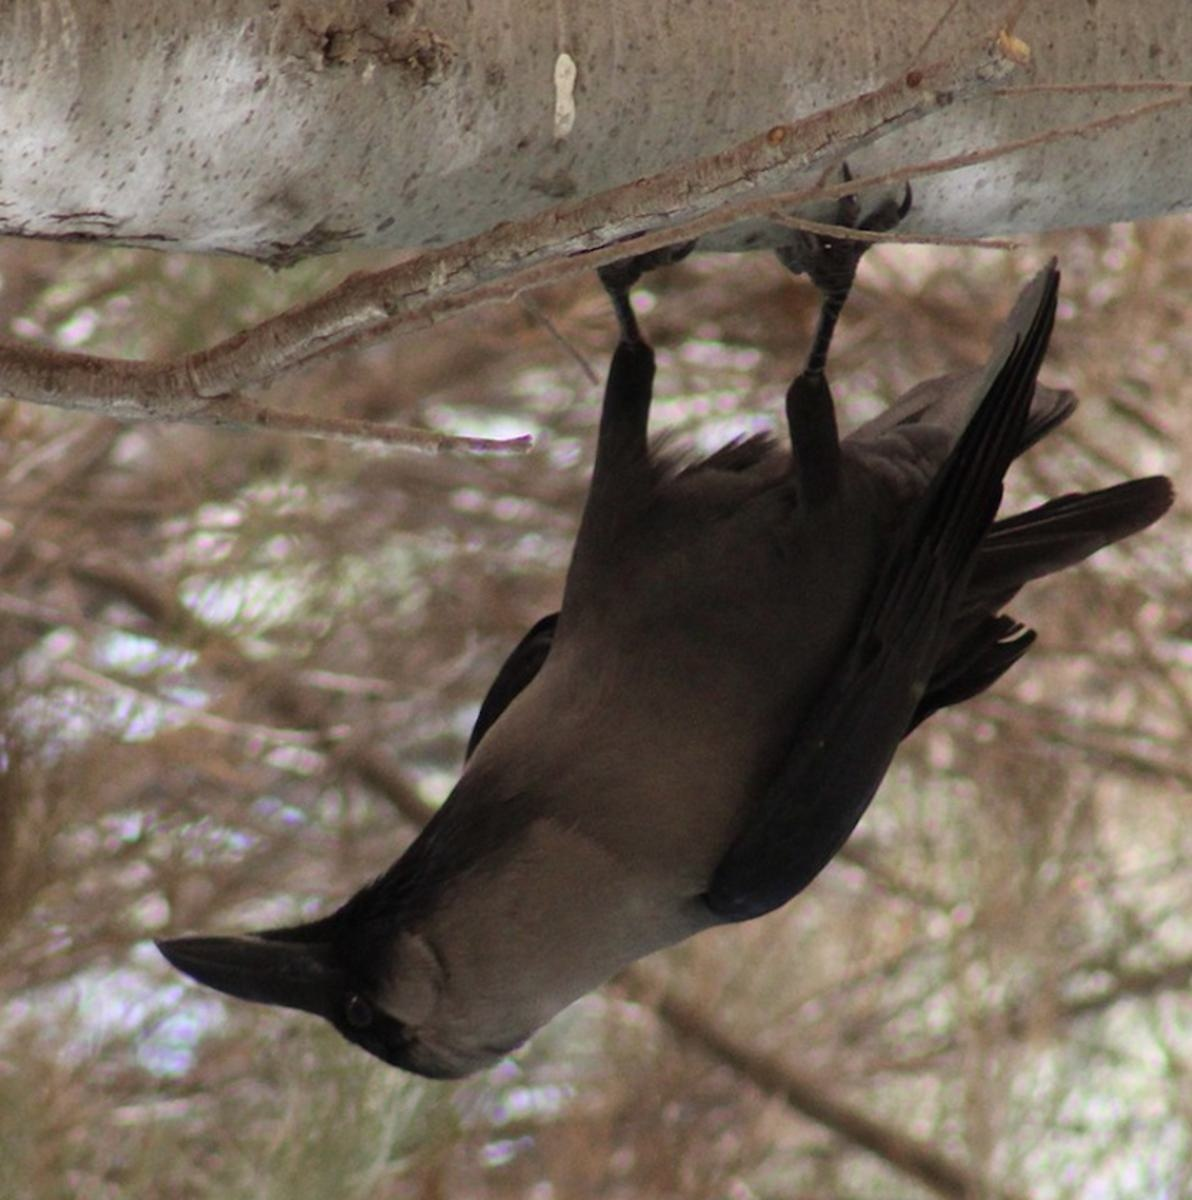crow: (140, 203, 1159, 1100)
